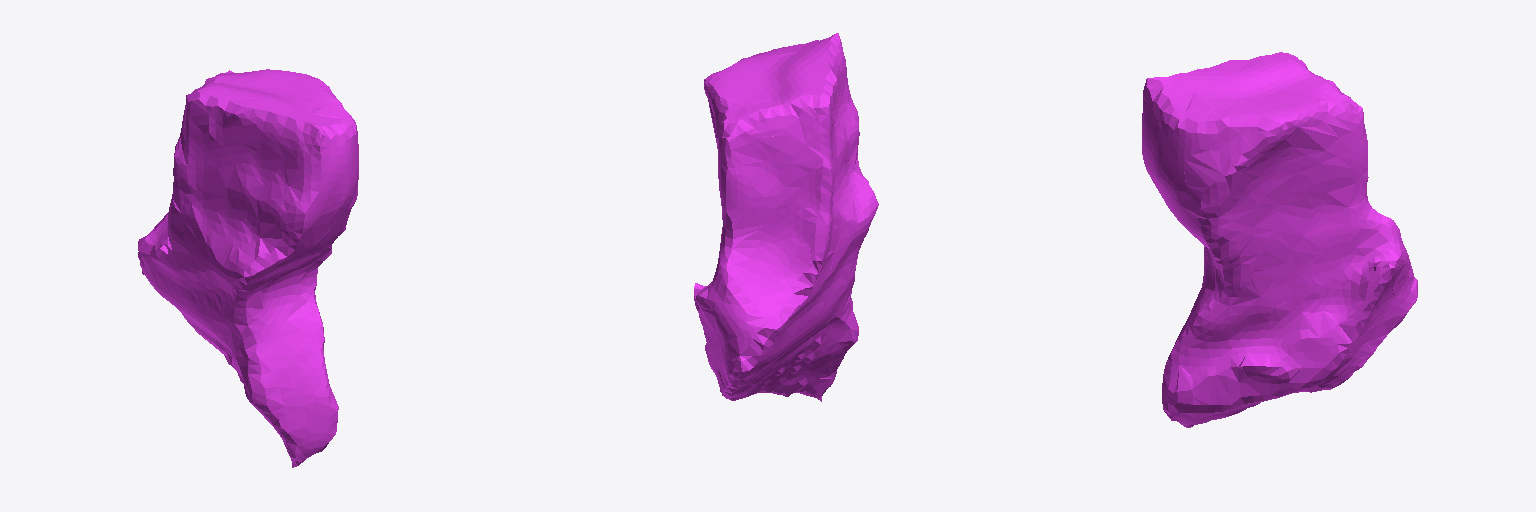
File: Model_88_RH__Dysgranular_insular_cortex_(DI).obj
The picture shows the model from 3 angles: view 1: azimuth 30°, elevation 25°; view 2: azimuth 150°, elevation 25°; view 3: azimuth 270°, elevation 25°; orthographic projection.
Size of the model in its own units: 1.65 by 3.79 by 2.69.